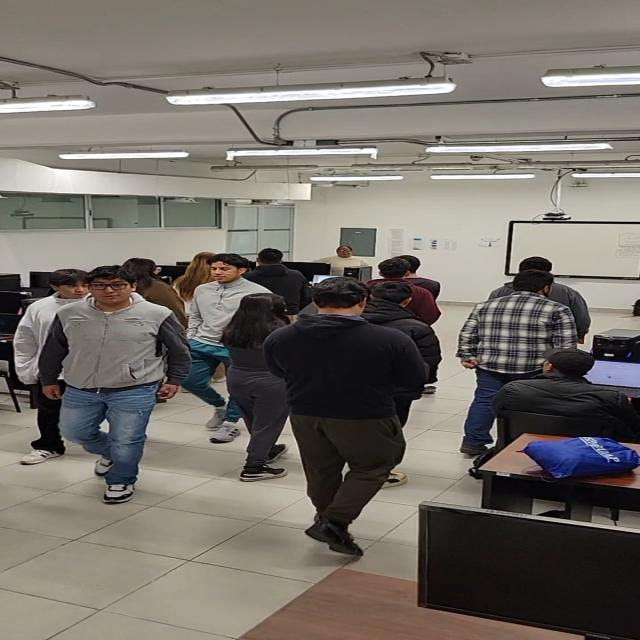Persona: (45, 266, 174, 472), (294, 278, 382, 527), (220, 290, 301, 474), (479, 266, 584, 388), (175, 250, 252, 324), (309, 240, 371, 270)
